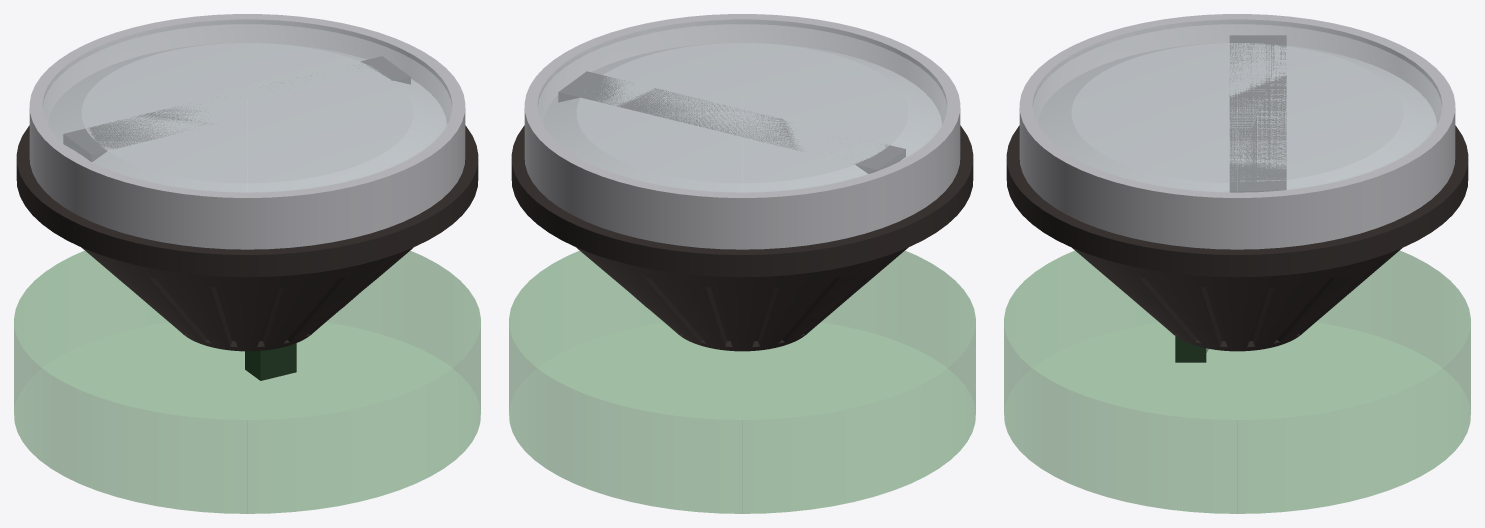
The model's file is HEADLIGHT-L.glb.
The picture shows the model from 3 angles, left to right: view 1: azimuth 30°, elevation 25°; view 2: azimuth 150°, elevation 25°; view 3: azimuth 270°, elevation 25°; orthographic projection.
Parts seen in each view (by area): view 1: keep-out: plug and leads behind the heat sink (40 mm), HEADLIGHT-L lens (clear polycarbonate), HEADLIGHT-L reflector, HEADLIGHT-L bezel ring, HEADLIGHT-L housing: flange and finned heat sink (aluminium), HEADLIGHT-L LED bar (photo), HEADLIGHT-L H4 plug (3 blades); view 2: keep-out: plug and leads behind the heat sink (40 mm), HEADLIGHT-L lens (clear polycarbonate), HEADLIGHT-L reflector, HEADLIGHT-L bezel ring, HEADLIGHT-L housing: flange and finned heat sink (aluminium), HEADLIGHT-L LED bar (photo); view 3: keep-out: plug and leads behind the heat sink (40 mm), HEADLIGHT-L lens (clear polycarbonate), HEADLIGHT-L reflector, HEADLIGHT-L bezel ring, HEADLIGHT-L housing: flange and finned heat sink (aluminium), HEADLIGHT-L LED bar (photo), HEADLIGHT-L H4 plug (3 blades).
Boxes of the visible parts, left/top/right/bottom form: keep-out: plug and leads behind the heat sink (40 mm): left=14, top=251, right=480, bottom=513; HEADLIGHT-L lens (clear polycarbonate): left=42, top=19, right=452, bottom=192; HEADLIGHT-L reflector: left=48, top=43, right=446, bottom=192; HEADLIGHT-L bezel ring: left=29, top=14, right=465, bottom=249; HEADLIGHT-L housing: flange and finned heat sink (aluminium): left=16, top=125, right=478, bottom=351; HEADLIGHT-L LED bar (photo): left=63, top=56, right=410, bottom=161; HEADLIGHT-L H4 plug (3 blades): left=245, top=343, right=296, bottom=380; keep-out: plug and leads behind the heat sink (40 mm): left=509, top=251, right=975, bottom=513; HEADLIGHT-L lens (clear polycarbonate): left=537, top=19, right=947, bottom=192; HEADLIGHT-L reflector: left=543, top=43, right=941, bottom=192; HEADLIGHT-L bezel ring: left=524, top=14, right=960, bottom=249; HEADLIGHT-L housing: flange and finned heat sink (aluminium): left=511, top=125, right=973, bottom=351; HEADLIGHT-L LED bar (photo): left=558, top=71, right=905, bottom=173; keep-out: plug and leads behind the heat sink (40 mm): left=1004, top=251, right=1470, bottom=513; HEADLIGHT-L lens (clear polycarbonate): left=1032, top=19, right=1442, bottom=192; HEADLIGHT-L reflector: left=1038, top=43, right=1436, bottom=191; HEADLIGHT-L bezel ring: left=1019, top=14, right=1455, bottom=249; HEADLIGHT-L housing: flange and finned heat sink (aluminium): left=1006, top=125, right=1468, bottom=351; HEADLIGHT-L LED bar (photo): left=1230, top=35, right=1286, bottom=192; HEADLIGHT-L H4 plug (3 blades): left=1175, top=336, right=1206, bottom=362.
Size of the model in its own units: 0.1799 by 0.1345 by 0.1799.
